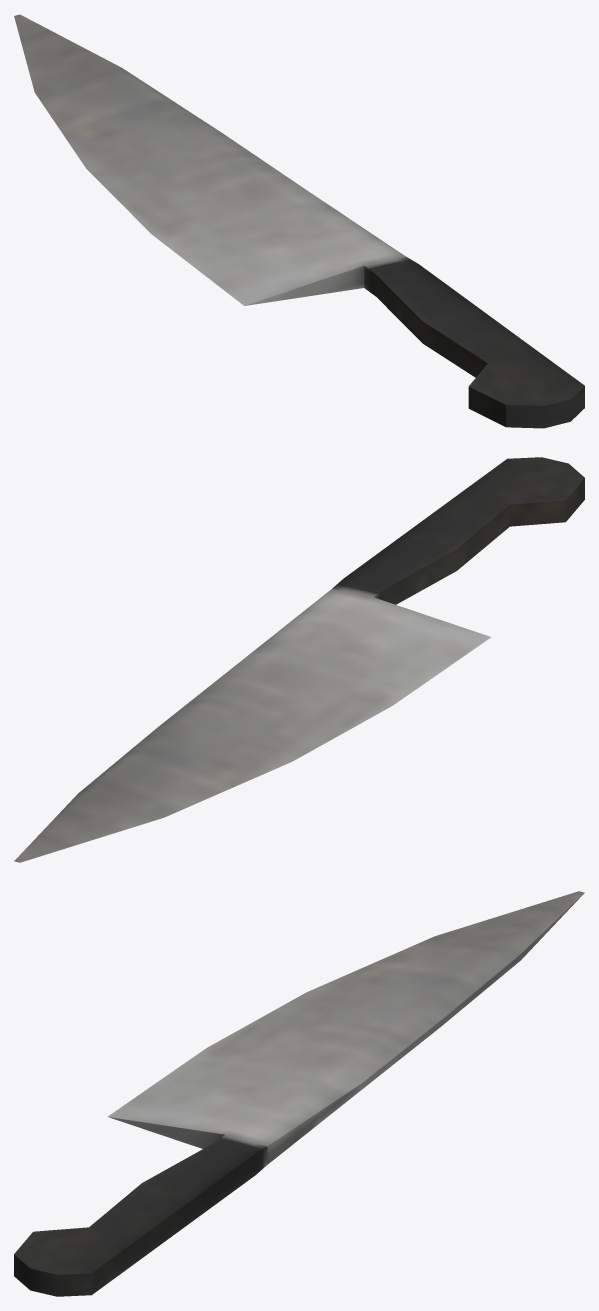
Rendered from Knife_T01.FBX.
The picture shows the model from 3 angles, top to bottom: view 1: azimuth 30°, elevation 25°; view 2: azimuth 150°, elevation 25°; view 3: azimuth 330°, elevation 25°; orthographic projection.
Visible parts, largest first — view 1: Knife_T01; view 2: Knife_T01; view 3: Knife_T01.
Part boxes in pixels (box(x1,y1,x2,y2)): Knife_T01: box(14, 14, 584, 428); Knife_T01: box(14, 457, 584, 862); Knife_T01: box(14, 891, 584, 1296).
Size of the model in its own units: 5.72 by 0.7496 by 33.13.
